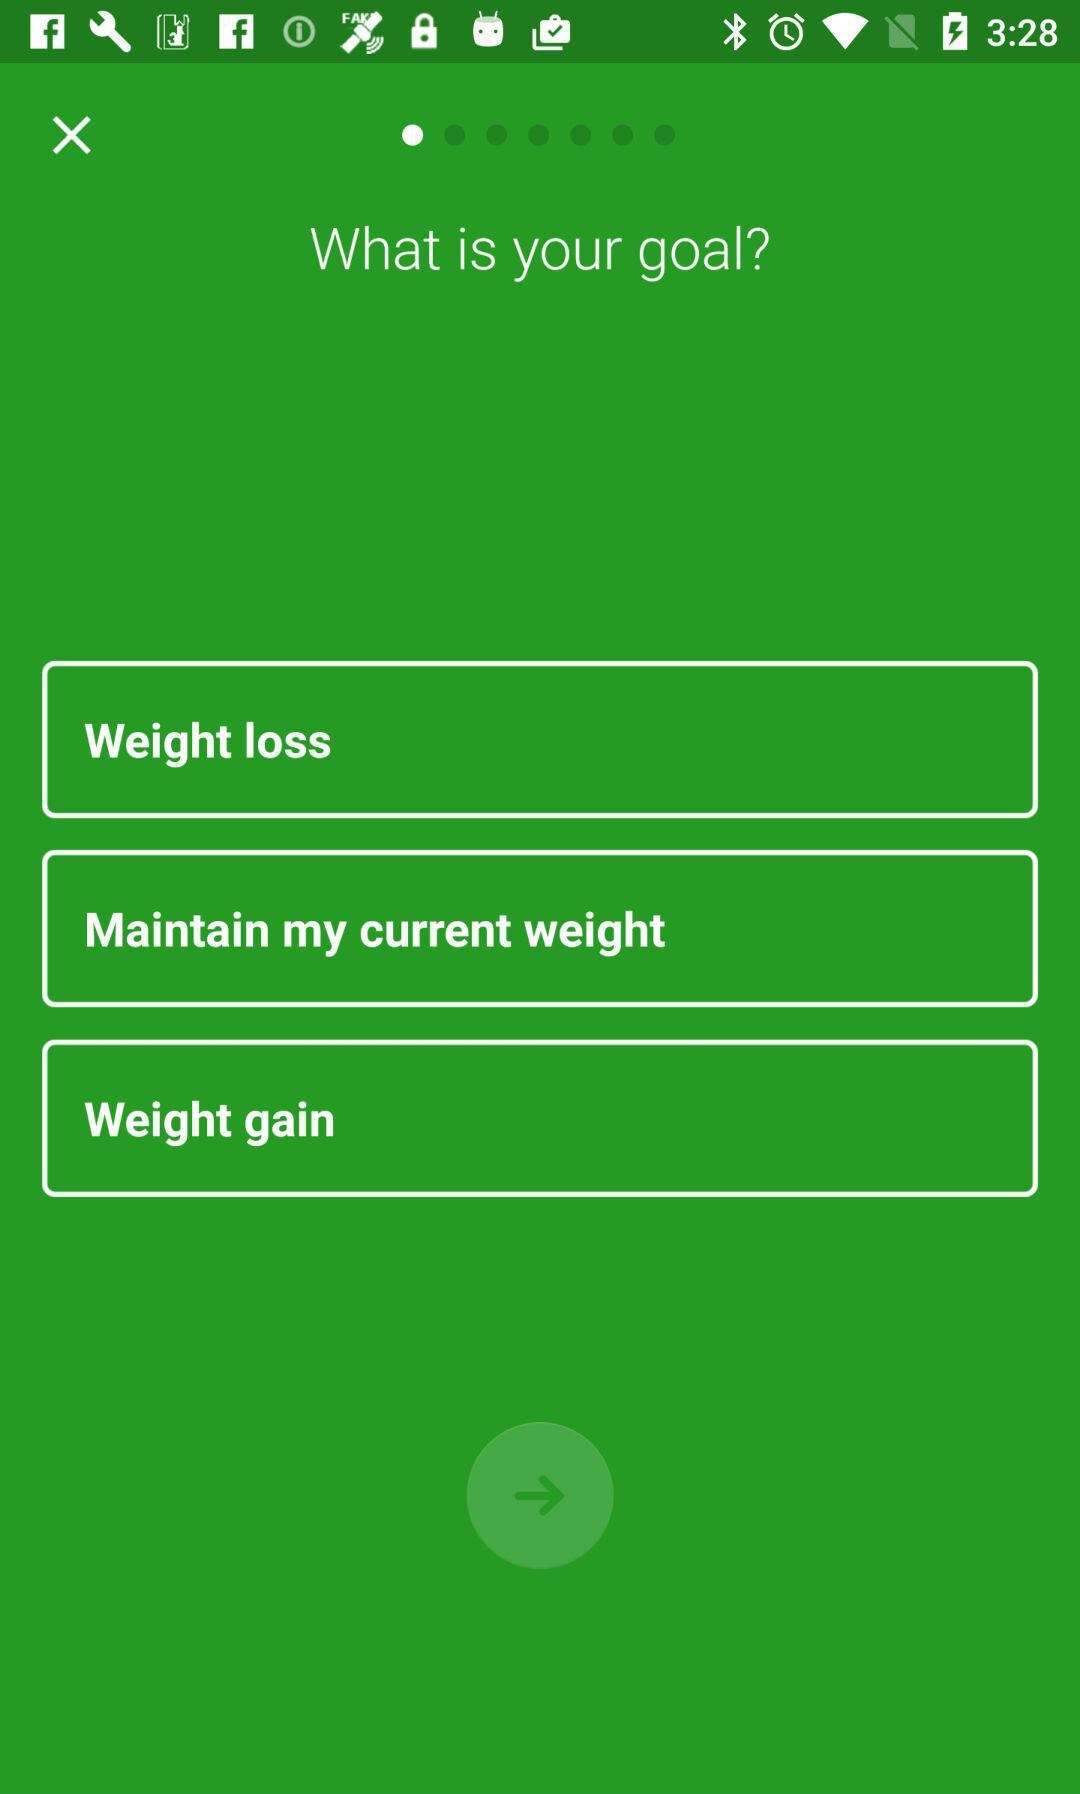Icon: (466, 1421, 615, 1571), (53, 117, 94, 156)
PageIndicator: (401, 124, 676, 147)
Text: (311, 226, 770, 284)
TextButton: (42, 850, 1039, 1008), (42, 661, 1039, 820), (42, 1039, 1038, 1198)
UpperTaskBar: (1, 1, 1080, 64)
